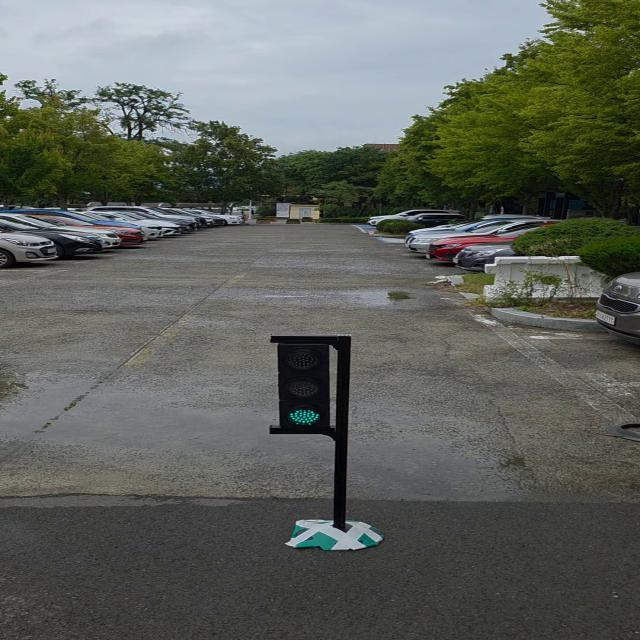green: (279, 338, 348, 432)
